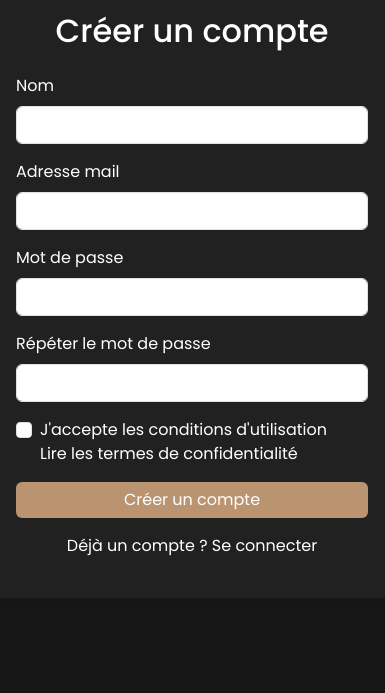
Test: SignupPage.vue - Form Validation › should display error if password does not contain an uppercase letter
Type "password1!" into the password field labelled "Mot de passe" at (192, 297), box [16,278,368,316]
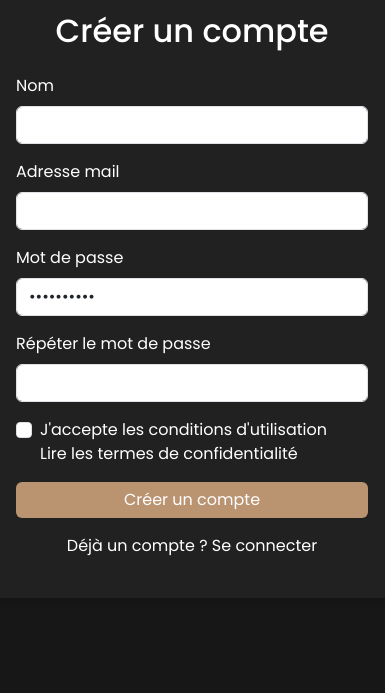
Submit the form
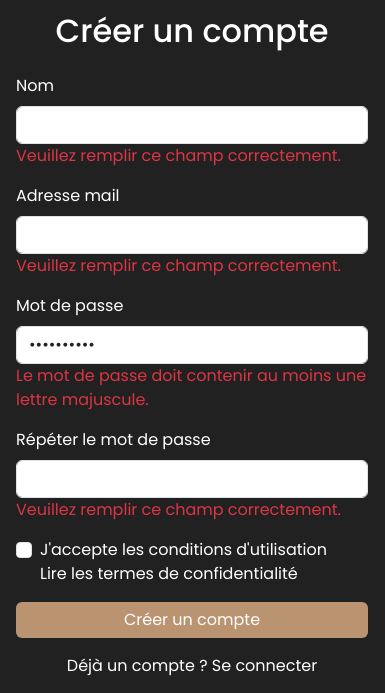
Result: the message "Le mot de passe doit contenir au moins une lettre majuscule." is shown at [16,364,366,411]
